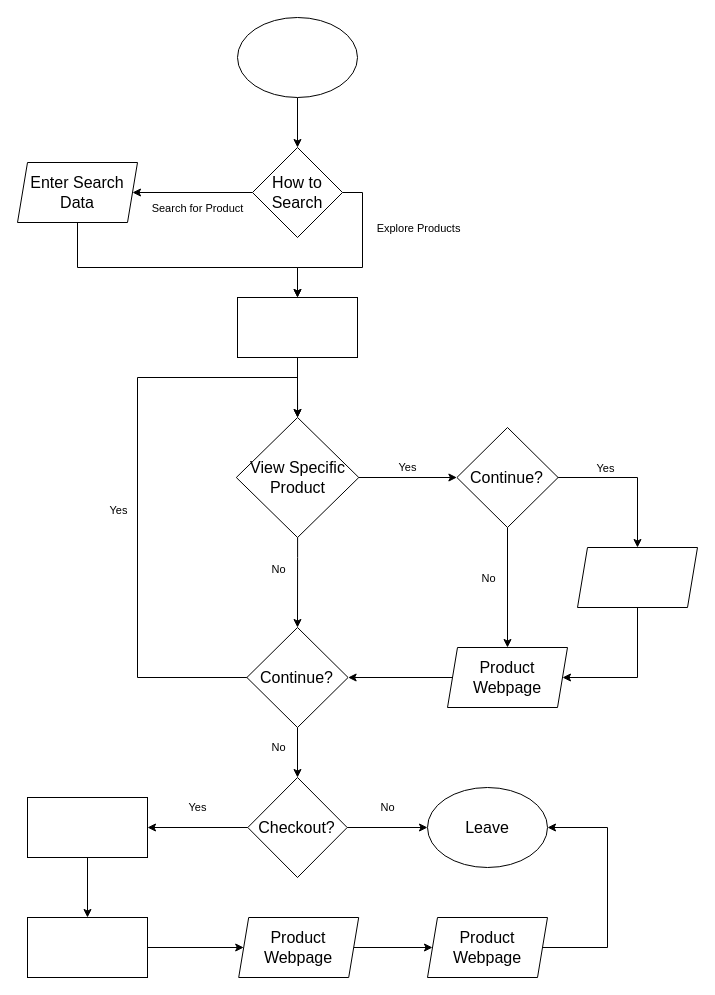
Image size: 715x995. Some labels were removed from this diagram. Here are the shapes that lost their labels. From the top down, the centre of each, then its label:
the point at 297,57: Enter Website
the point at 297,327: Look Over Products
the point at 637,577: Added Message
the point at 87,827: Open View Cart Screen
the point at 87,947: Open View Payment Screen
